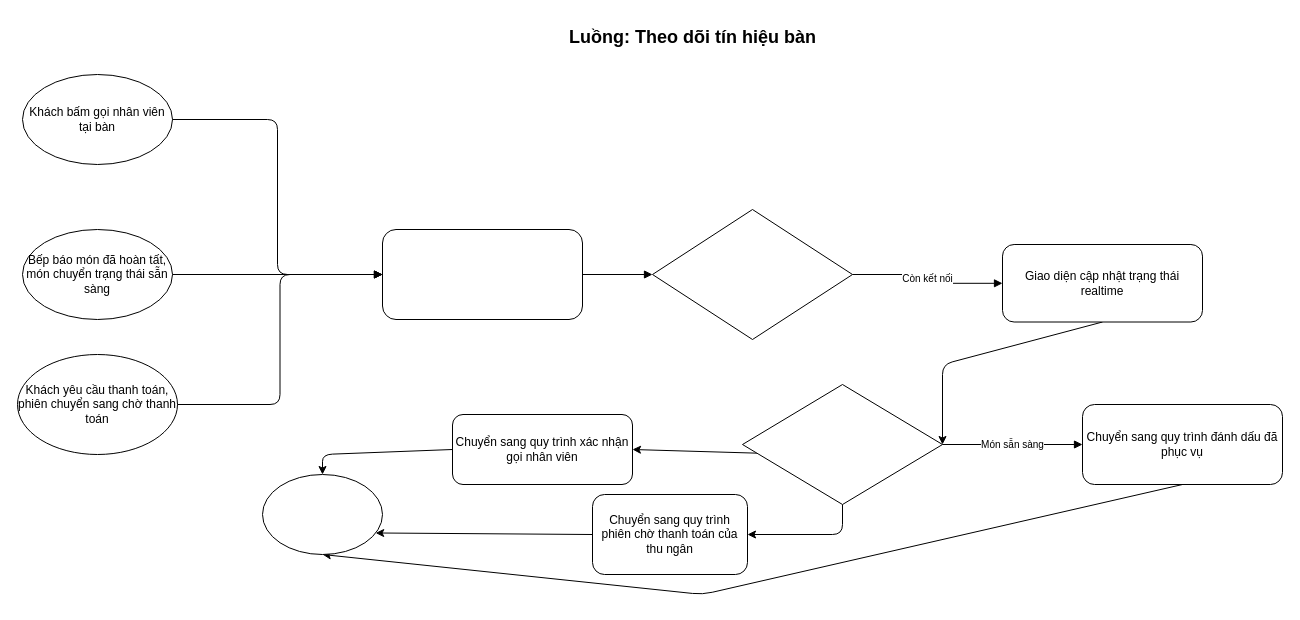
Some shapes in this 1300 by 620 pixel diagram are drawn without their labels. The shapes that lost their labels are listed below. From the top down, each one's centre as x and y in pixels, then its label:
the point at 482,274: Hệ thống phát sự kiện cho phục vụ
the point at 752,274: Màn hình phục vụ còn kết nối thời gian thực?
the point at 842,444: Phục vụ chọn xử lý tín hiệu nào?
the point at 322,514: Kết thức
